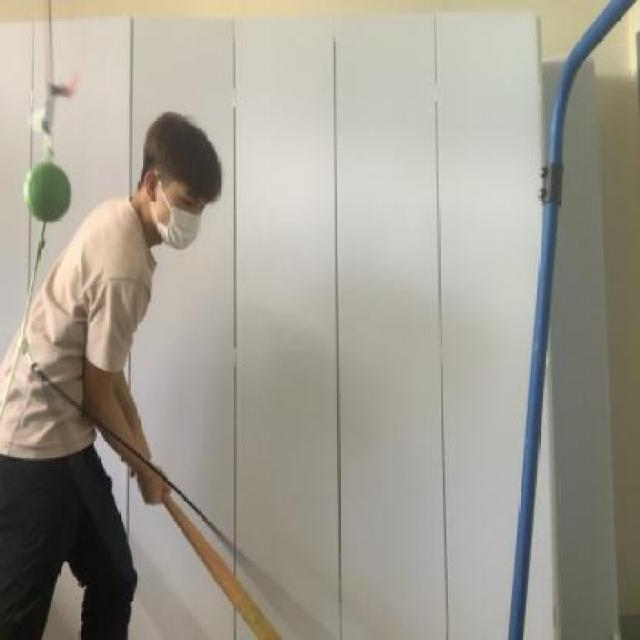baseball: (18, 148, 76, 214), (30, 212, 84, 240)
